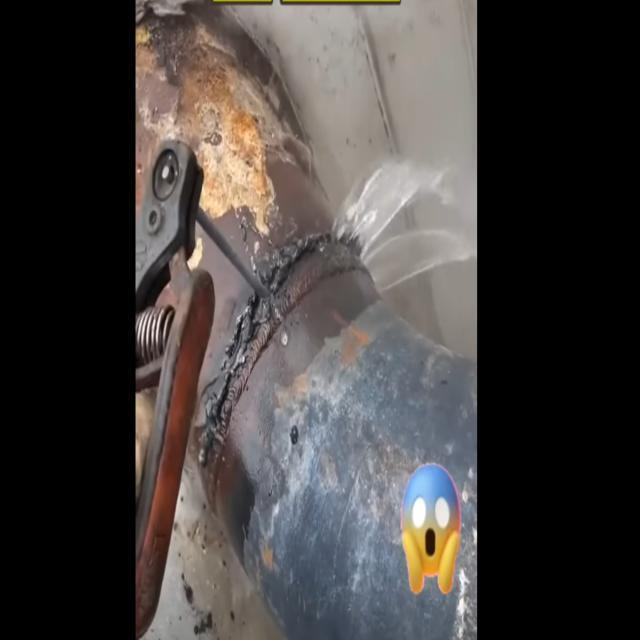pipe burst: (327, 158, 476, 292)
